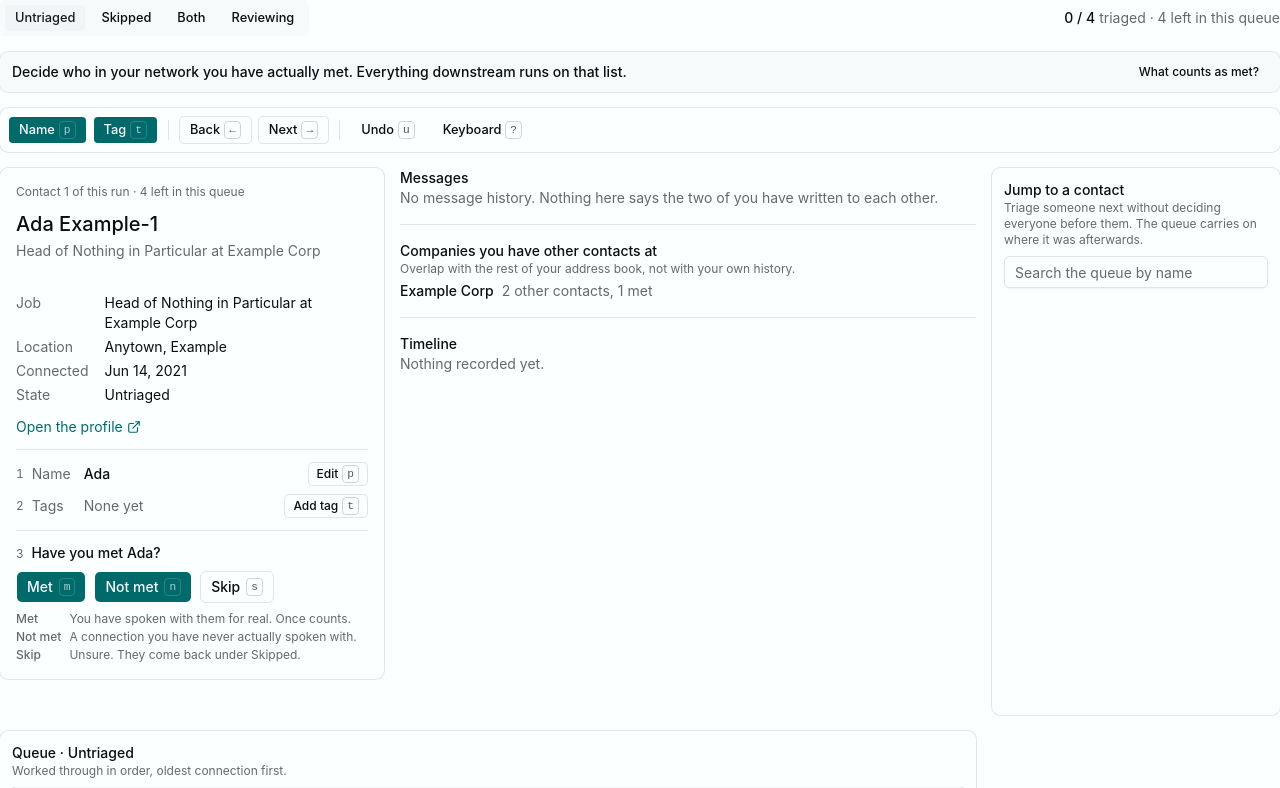
the on-screen controls › opens the tag picker, the name editor, and the help from their buttons
What coordinates should you click on to do the following:
click the button "Tag t"
I would click on:
 (125, 130)
Its box is [93,116,158,144].
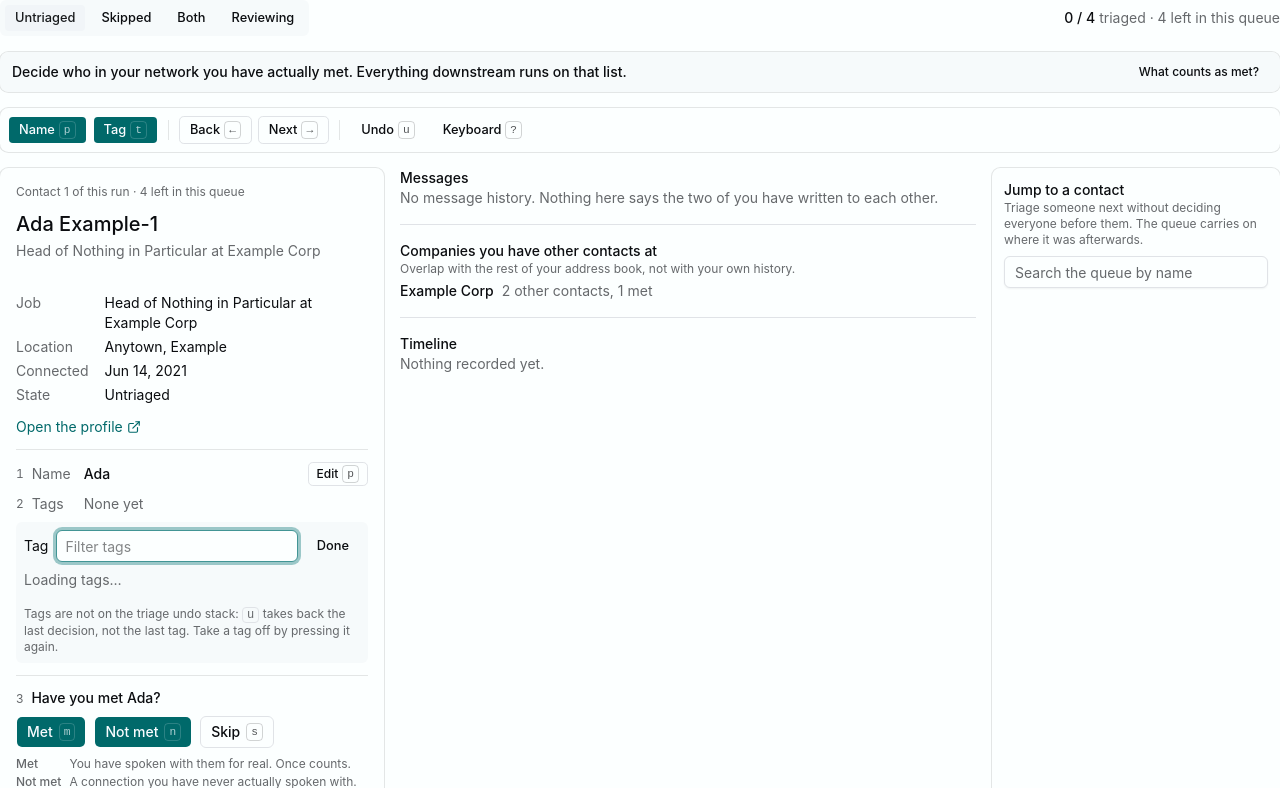
Check: the element named "Tag this contact" is shown, box [16,522,368,663]
What coordinates should you click on to do the following:
click the button "Name p"
I would click on:
 (47, 130)
Its box is [8,116,87,144].
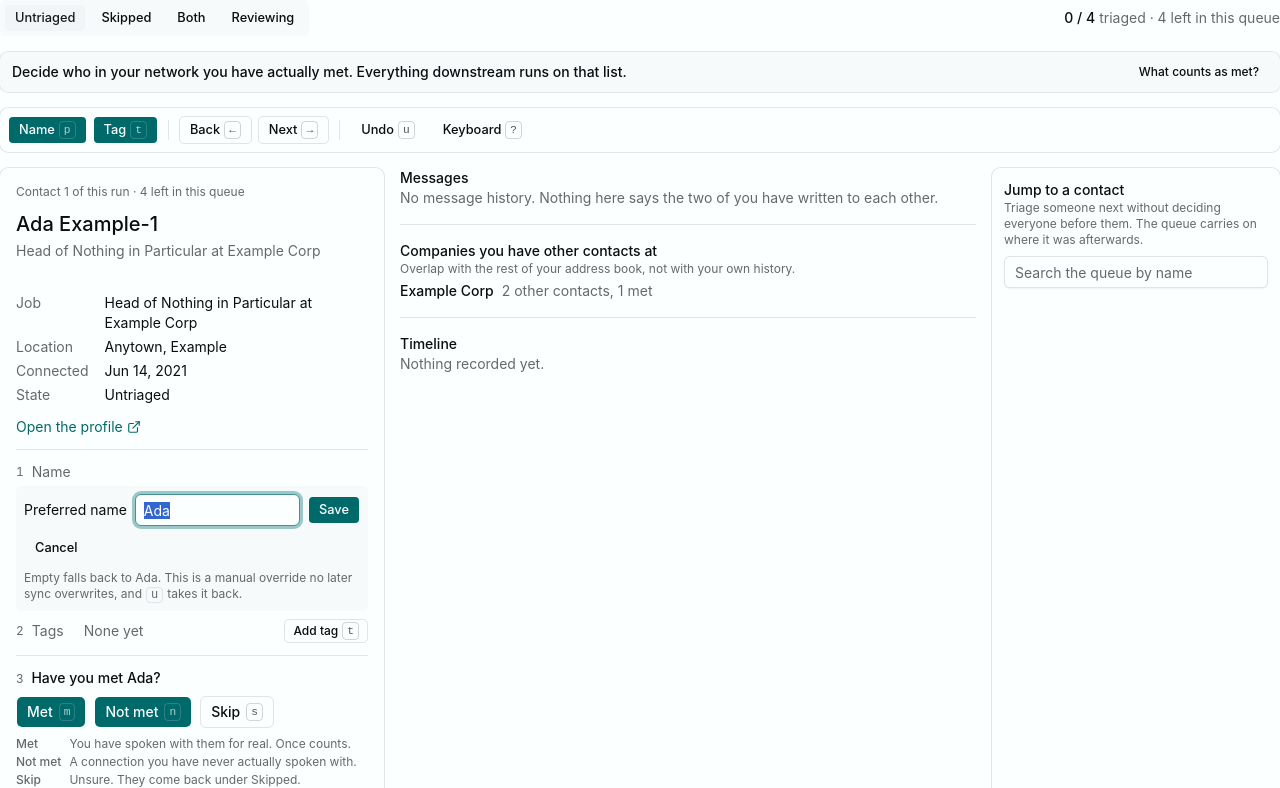
Check: the field labelled "Preferred name" is shown, box [135,494,300,526]
What coordinates should you click on to do the following:
click the button "Keyboard ?"
I would click on:
 (482, 130)
Its box is [432,116,533,144].
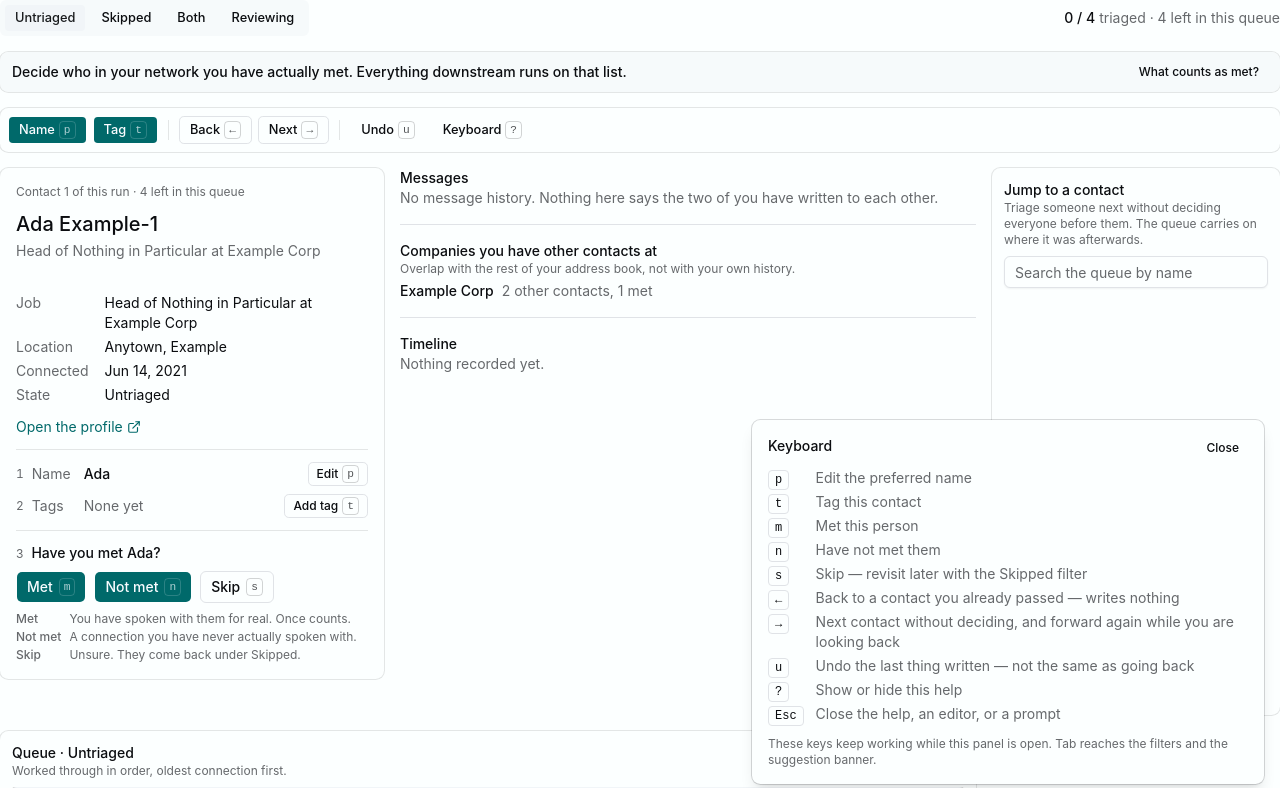
Check: the dialog named "Keyboard shortcuts" is shown, box [752,420,1264,784]
